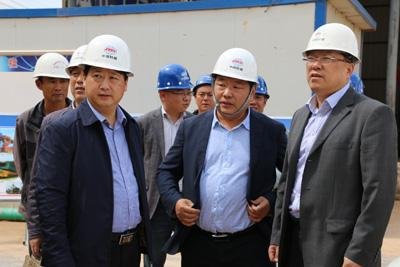hard-hat: (302, 23, 361, 63), (81, 33, 134, 76), (211, 48, 258, 83), (32, 51, 70, 80), (157, 63, 193, 91)
person: (267, 22, 398, 267), (25, 33, 152, 266), (154, 47, 288, 267), (13, 52, 74, 266), (134, 63, 197, 267)
